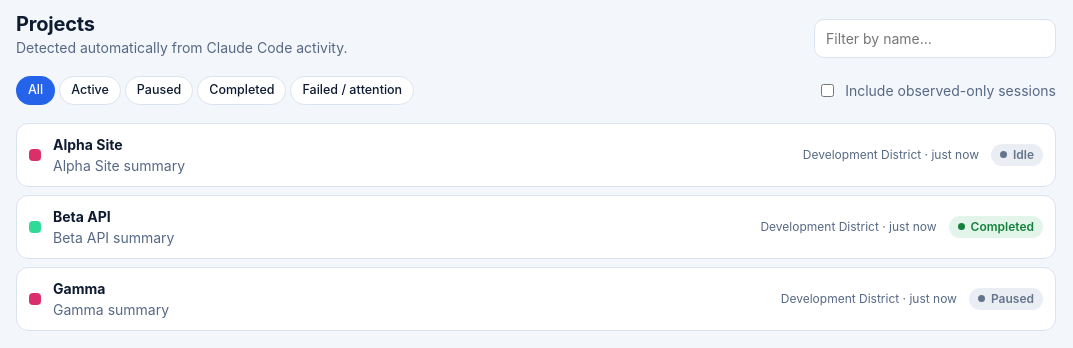
it: ProjectsView › lists real projects, searches by name, filters by state, and opens details
Step 1. Type "beta" into the search field named "Filter projects by name" → (935, 38), box [814,19,1056,58]
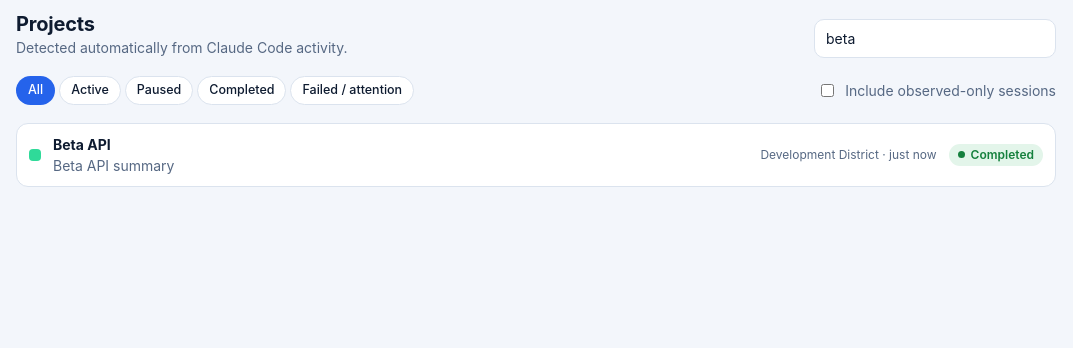
Expected: the text "Beta API" is shown, [53,136,111,153]
Result: the button "Alpha Site" is gone
Step 2. Clear the search field named "Filter projects by name" → (935, 38), box [814,19,1056,58]
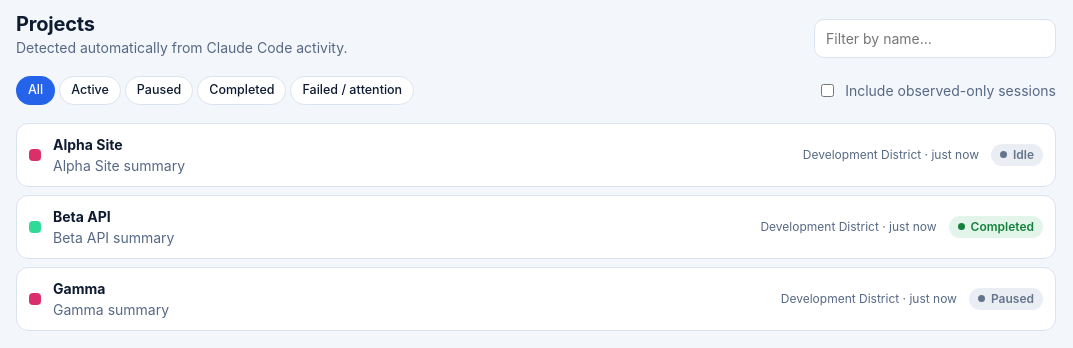
Step 3. Click the button "Paused" → (159, 90), box [125,76,193,105]
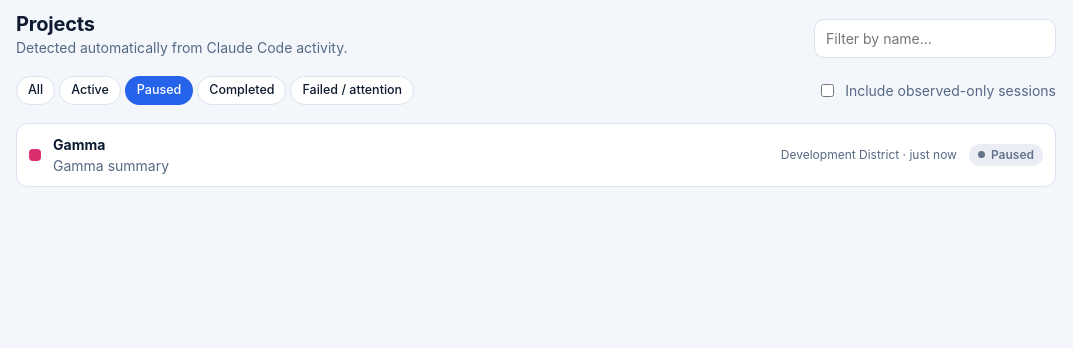
Result: the text "Gamma" is shown at [53,136,105,153]
Result: the button "Alpha Site" is gone
Step 4. Click the button "Completed" → (242, 90), box [197,76,286,105]
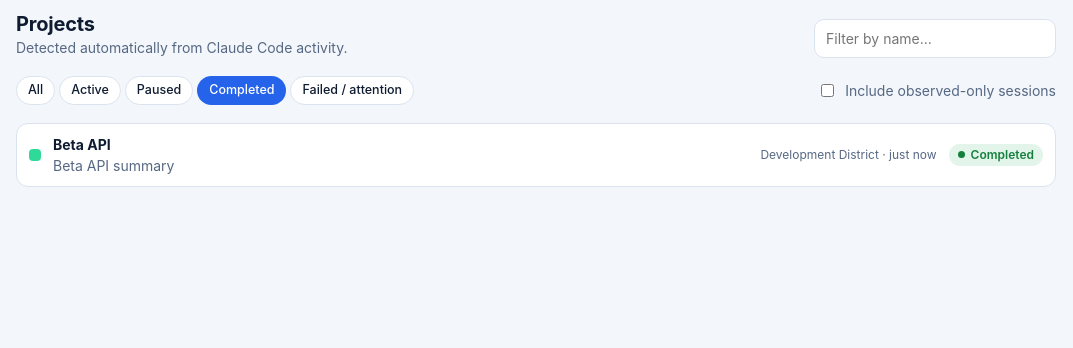
Result: the text "Beta API" is shown at [53,136,111,153]
Step 5. Click the button "Failed / attention" → (352, 90), box [290,76,414,105]
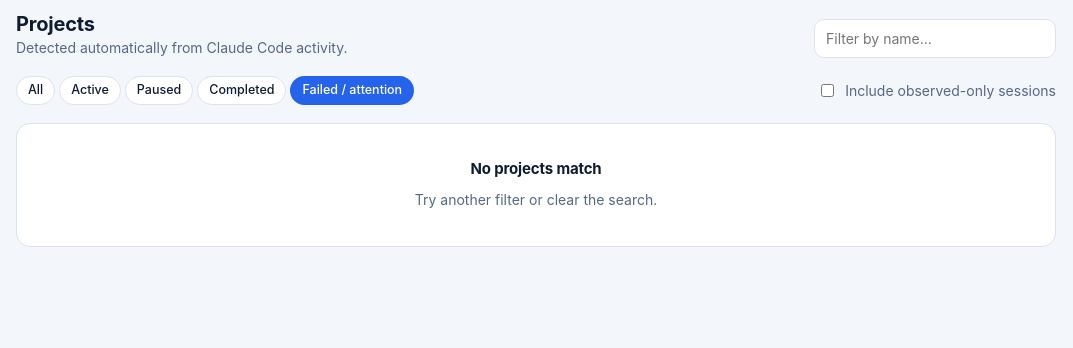
Result: the heading "No projects match" is shown at [470,160,602,179]
